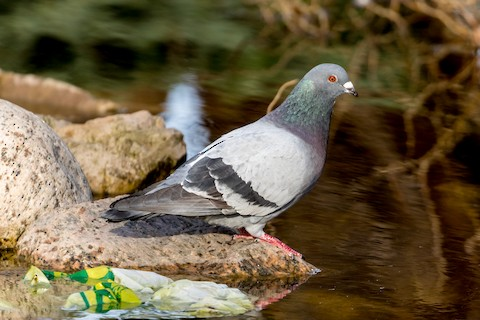pigeon: (98, 60, 359, 250)
